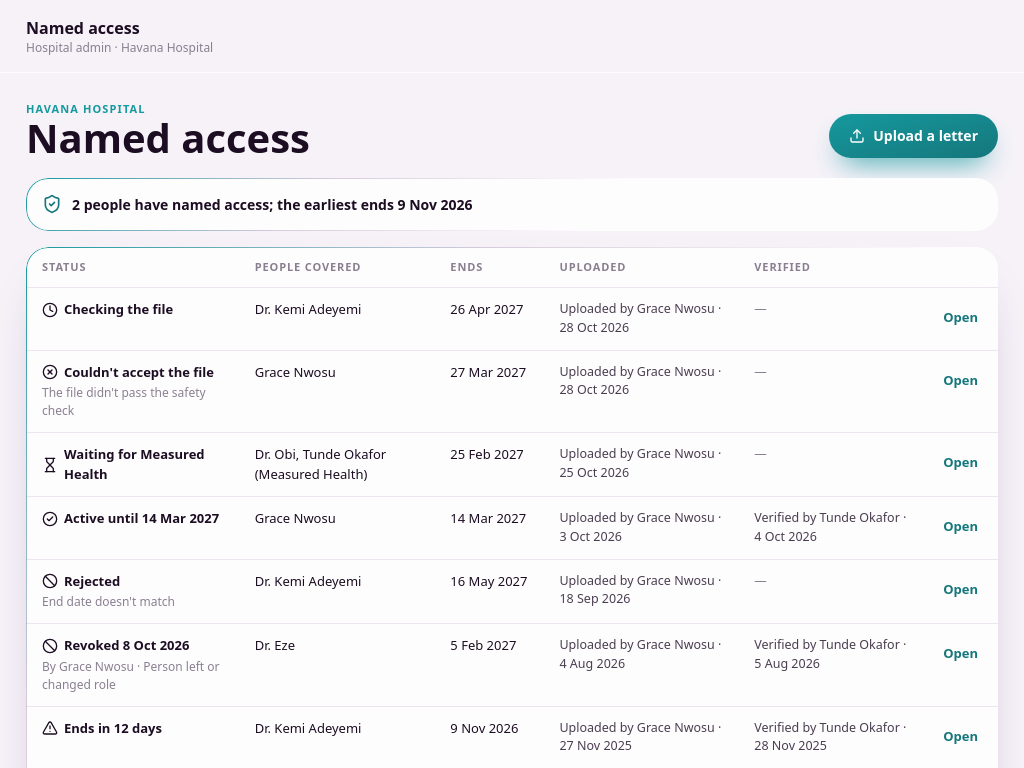
Test case: LetterDetail › the detail shows what was entered and the history
The image size is (1024, 768).
What coordinates should you click on to do the following:
click the button with aria-label "Open the letter"
I would click on:
 (961, 527)
Its box is 931,505 -> 990,549.
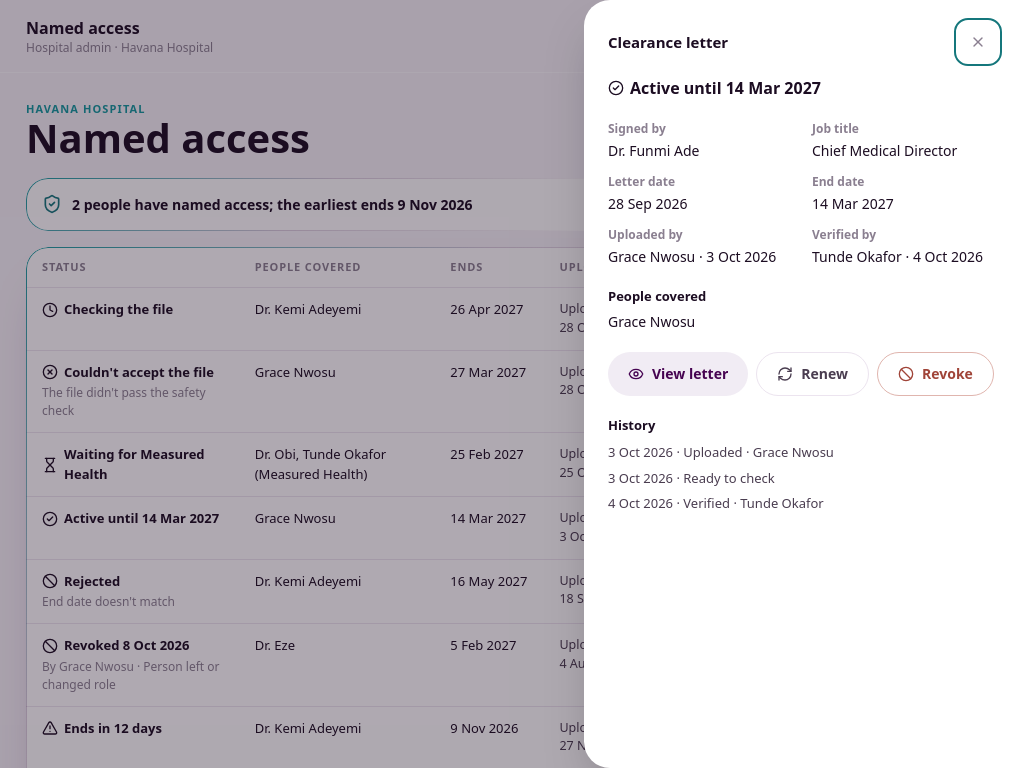
Expected: the text "Signed by" is shown, 608,120 -> 666,137
Expected: the text "Dr. Funmi Ade" is shown, 608,141 -> 700,160
Expected: the text "Chief Medical Director" is shown, 812,141 -> 957,160
